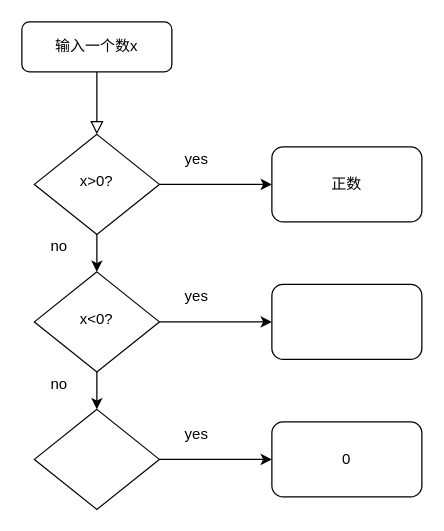
Image size: 444x531. Some labels were removed from this diagram. Here are the shapes that lost their labels. From the top down, the box of each, then its label:
(271, 283, 422, 359): 负数
(33, 408, 159, 509): x==0?
